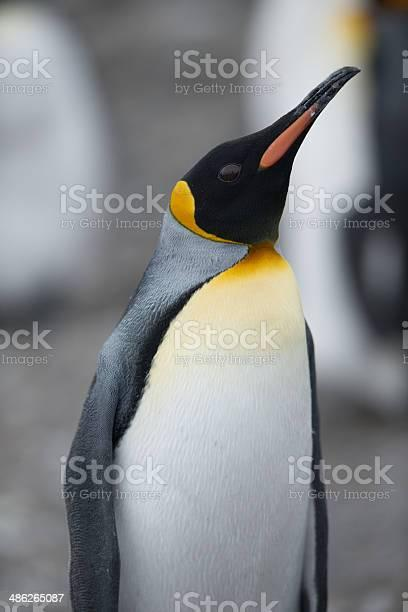king: (16, 53, 408, 612)
